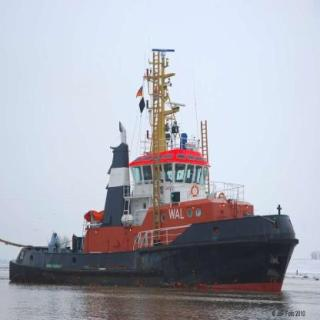Tug Boat: (9, 122, 298, 291)
